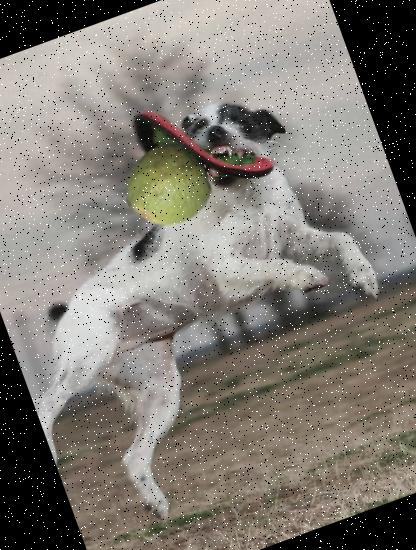Limes: (112, 130, 222, 239)
